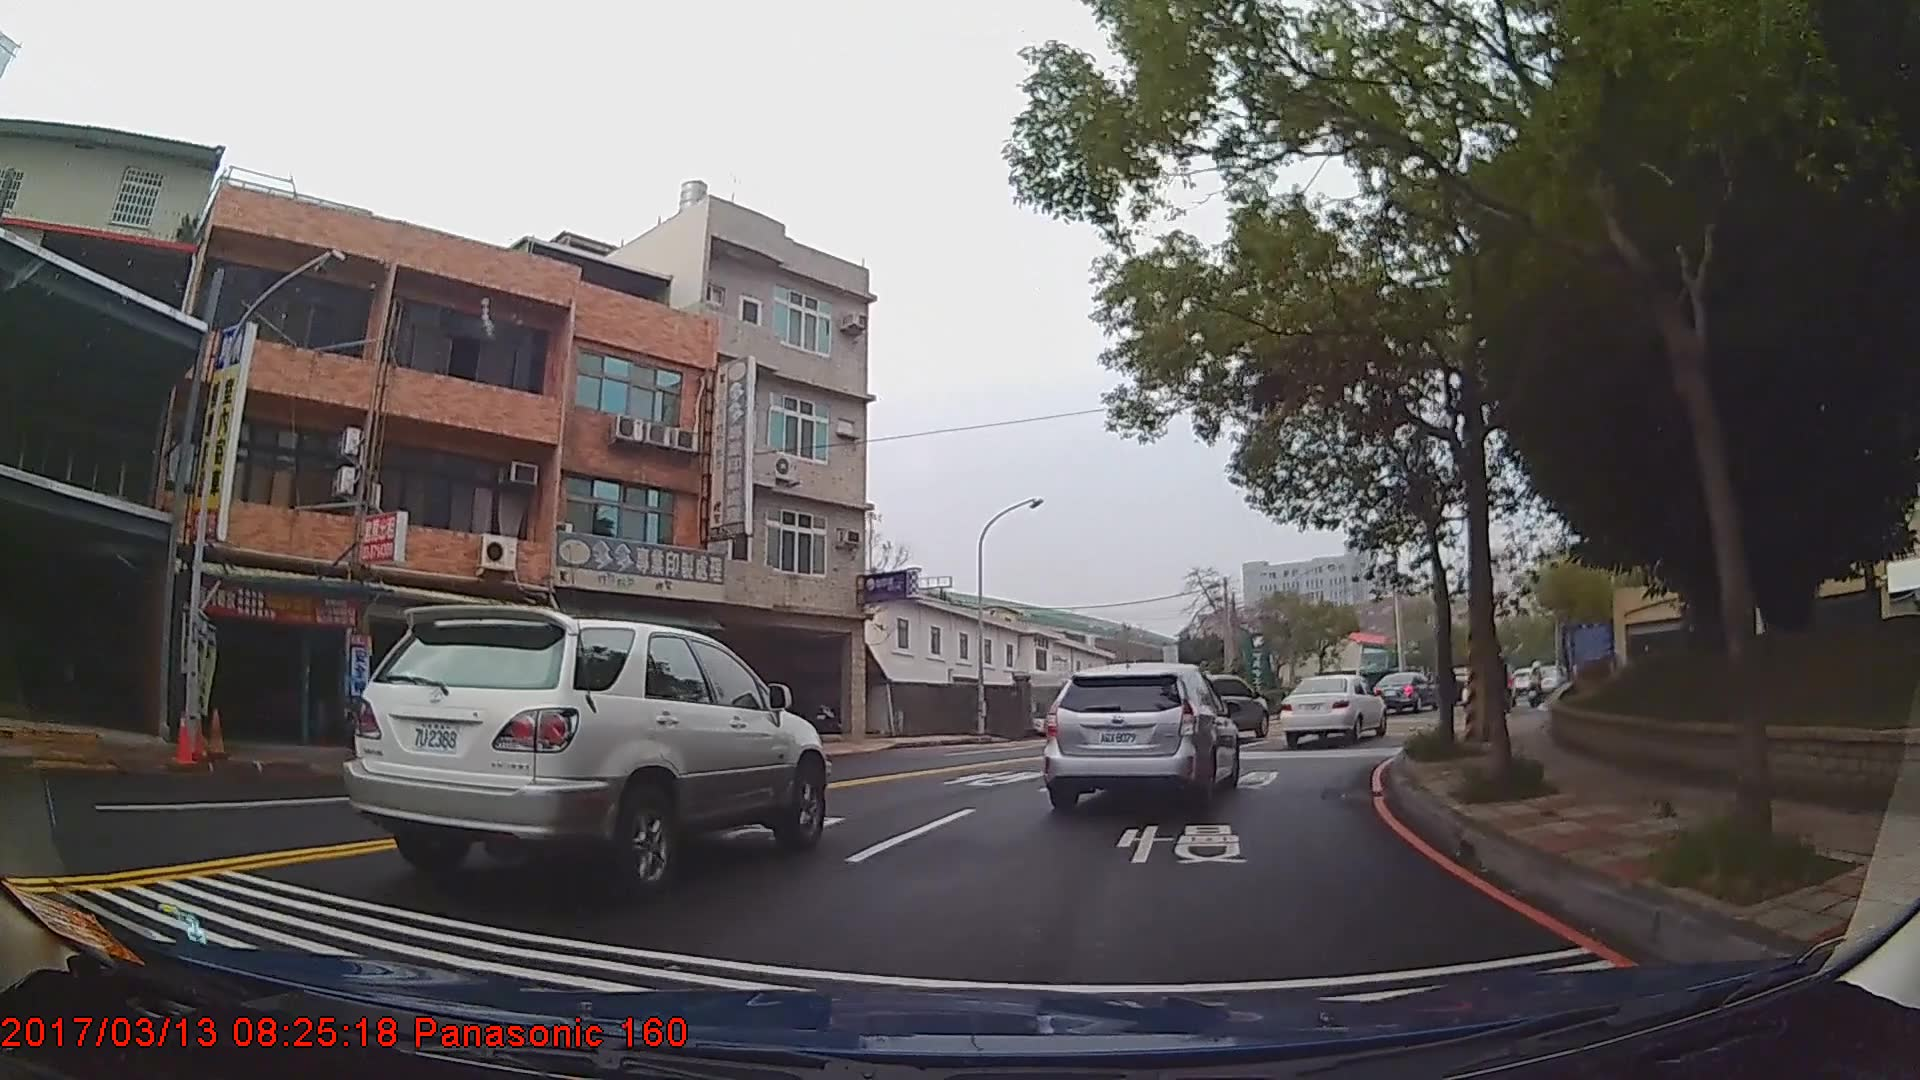vehicle: (342, 604, 827, 899), (1038, 659, 1237, 810), (1274, 671, 1385, 744), (1174, 671, 1267, 742), (1367, 667, 1435, 713)
